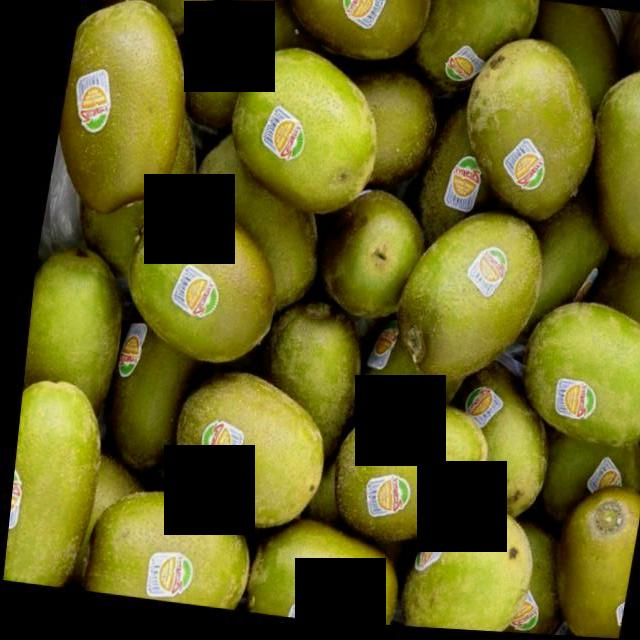kiwi: (47, 2, 194, 231), (433, 42, 606, 234), (379, 212, 557, 394), (215, 51, 393, 229), (106, 201, 289, 372), (157, 372, 336, 545), (4, 364, 112, 597), (83, 480, 265, 615), (321, 390, 483, 535), (398, 505, 563, 637), (525, 283, 640, 454), (570, 29, 640, 276), (244, 524, 408, 629)
